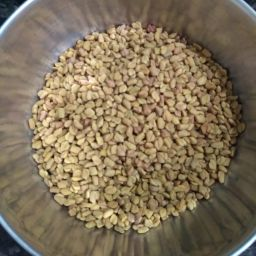Fenugeek (seeds): (75, 26, 156, 249), (27, 65, 248, 145), (140, 19, 215, 239), (167, 24, 254, 205), (23, 145, 237, 214), (30, 55, 87, 236), (56, 40, 215, 93)
